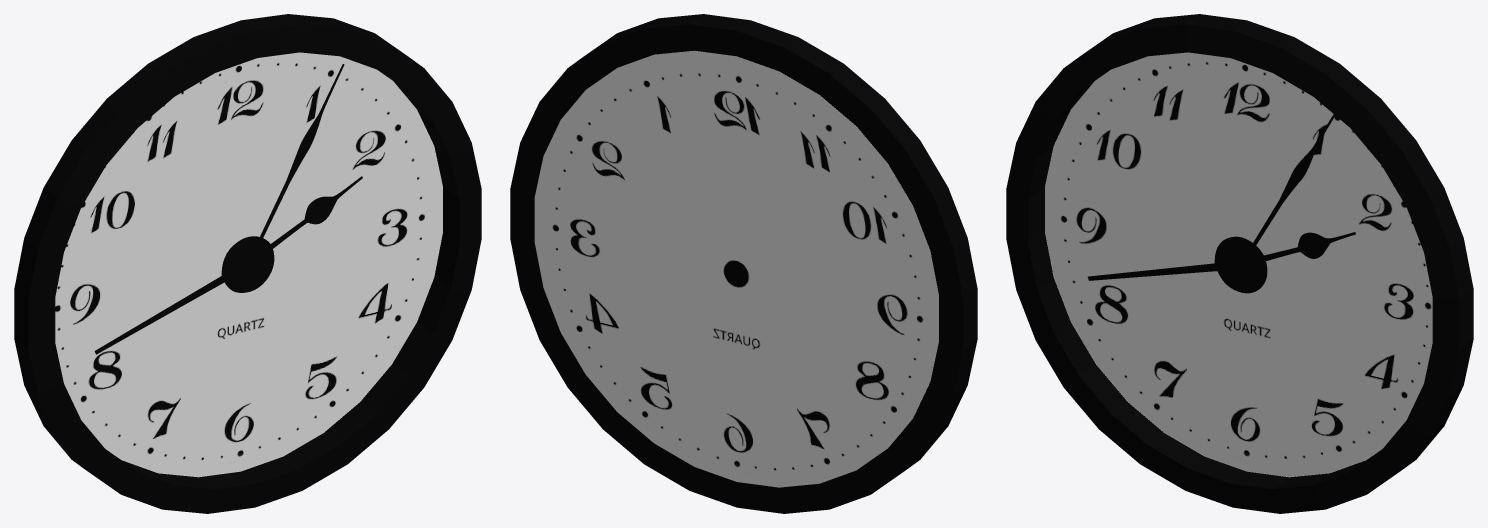
The model's file is analog_clock.glb.
3 views of the same model, side by side, from view 1: azimuth 30°, elevation 25°; view 2: azimuth 150°, elevation 25°; view 3: azimuth 330°, elevation 25° (orthographic).
Visible parts, largest first — view 1: accessory_clock_analog; view 2: accessory_clock_analog; view 3: accessory_clock_analog.
Part boxes in pixels (box(x1,y1,x2,y2)): accessory_clock_analog: box(14, 14, 481, 513); accessory_clock_analog: box(510, 14, 977, 513); accessory_clock_analog: box(1006, 14, 1473, 513).
Size of the model in its own units: 0.0646 by 0.065 by 0.00409.
Materials: 3 (1 with a texture image).
